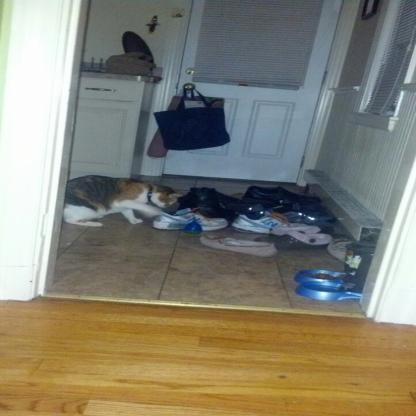Target: (68, 164, 183, 244)
